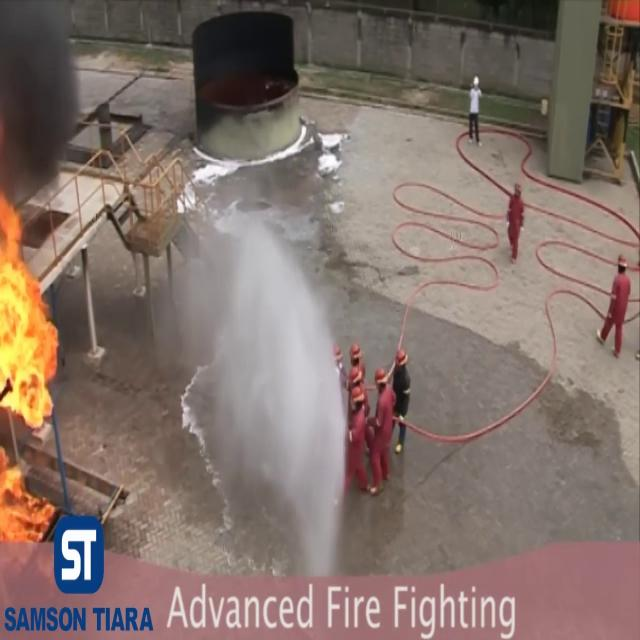Fire: (0, 214, 60, 532)
Smoke: (187, 209, 358, 571), (0, 1, 97, 182)
